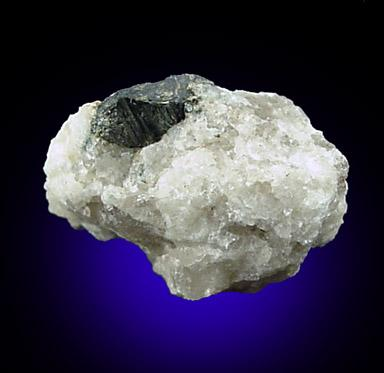magnetite: (92, 75, 194, 148)
